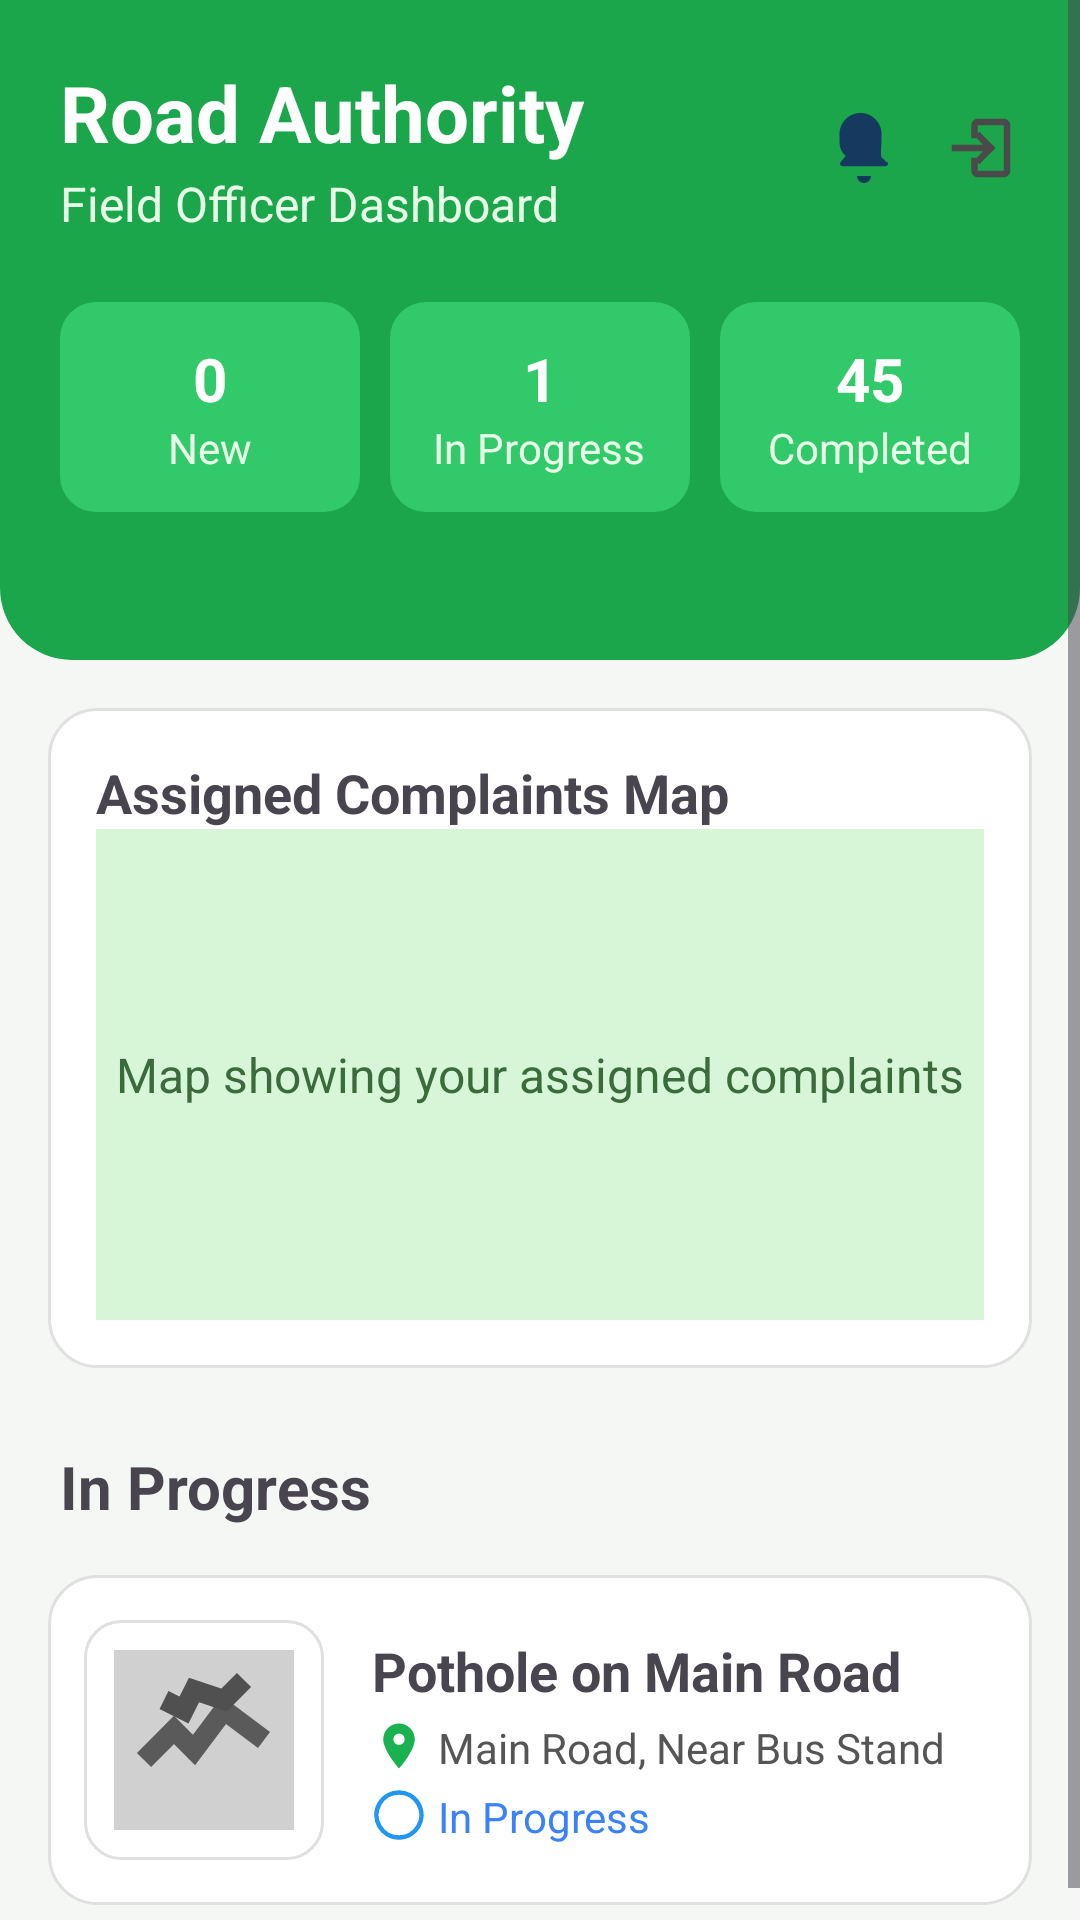

Point at icon controls on the screen. Image size 1080 x 1920, points as (x=x, y=y).
location: (x=399, y=1745)
notifications: (x=863, y=148)
